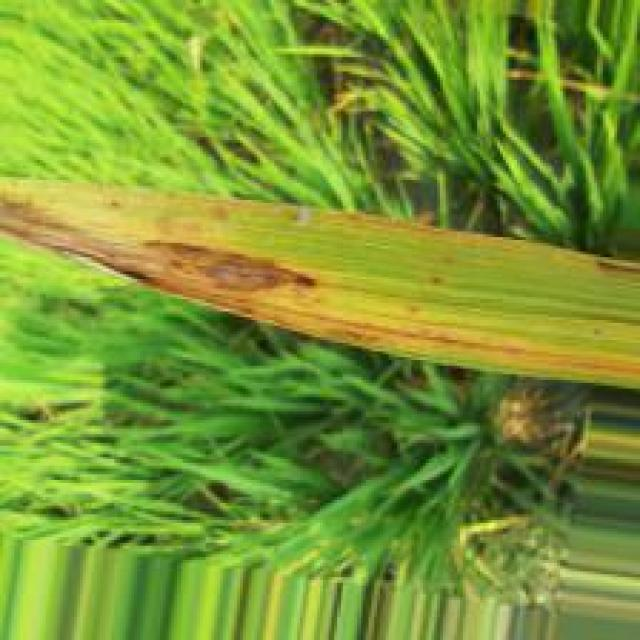Leaf_Blast: (3, 191, 324, 330), (292, 312, 539, 360)
